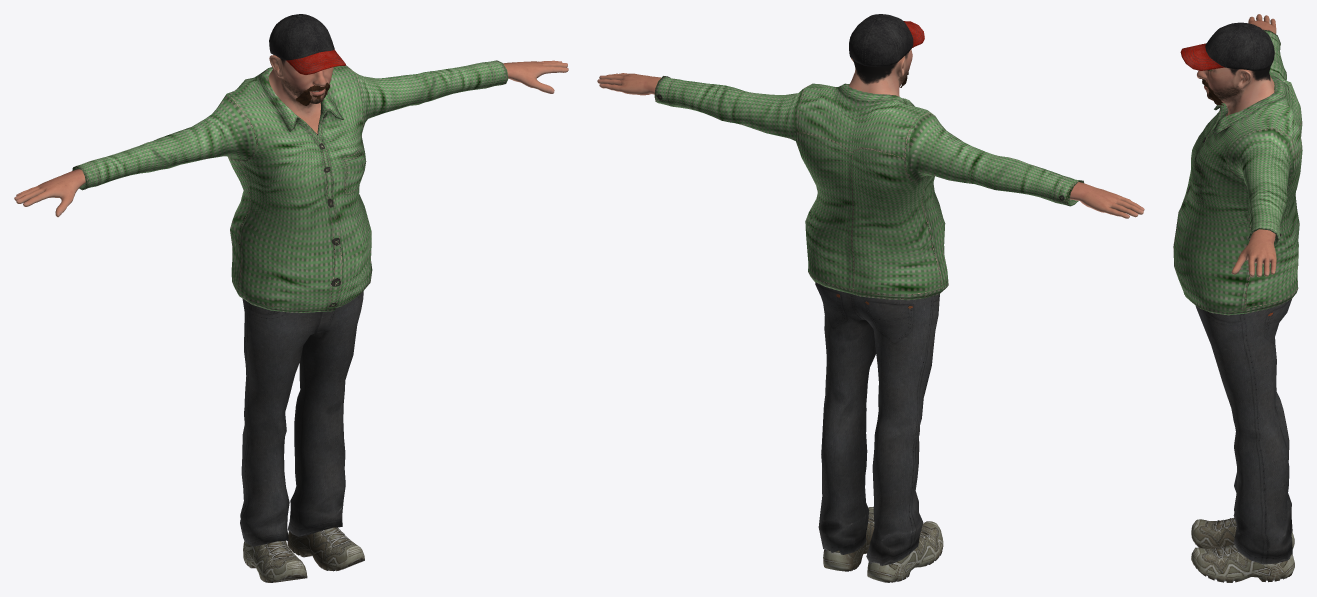
3 renders of one model, left to right at view 1: azimuth 30°, elevation 25°; view 2: azimuth 150°, elevation 25°; view 3: azimuth 270°, elevation 25°, orthographic. The views are drawn at different scales.
Visible parts, largest first — view 1: Tops, Bottoms, Body, Shoes, Hats; view 2: Tops, Bottoms, Body, Hats, Shoes; view 3: Tops, Bottoms, Body, Shoes, Hats.
Boxes of the visible parts, bbox=[...] form: Tops: bbox=[72, 60, 508, 312]; Bottoms: bbox=[240, 291, 363, 546]; Body: bbox=[14, 54, 568, 217]; Shoes: bbox=[243, 527, 364, 582]; Hats: bbox=[269, 14, 345, 74]; Tops: bbox=[654, 76, 1083, 300]; Bottoms: bbox=[815, 282, 939, 565]; Body: bbox=[597, 48, 1144, 218]; Hats: bbox=[849, 14, 924, 66]; Shoes: bbox=[823, 507, 943, 582]; Tops: bbox=[1173, 29, 1302, 315]; Bottoms: bbox=[1195, 299, 1292, 564]; Body: bbox=[1197, 14, 1276, 277]; Shoes: bbox=[1191, 517, 1294, 582]; Hats: bbox=[1180, 22, 1274, 70].
Size of the model in its own units: 191 by 182 by 39.47.
Materials: 7 (7 with a texture image).
